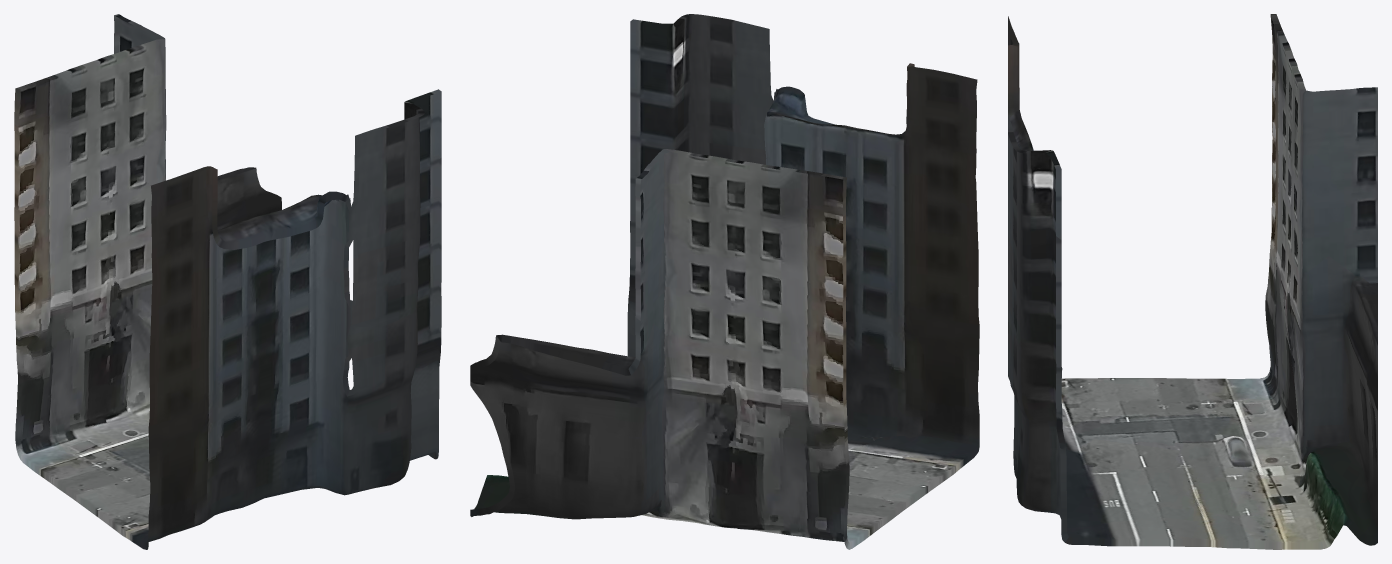
The model's file is z20-167769-405234-h0-yup-uvflip-v3-world.glb.
3 views of the same model, side by side, from view 1: azimuth 30°, elevation 25°; view 2: azimuth 150°, elevation 25°; view 3: azimuth 270°, elevation 25° (orthographic).
Bounding box in the file's own units: 30.16 × 34.4 × 30.32.
1 material, 1 textured.
